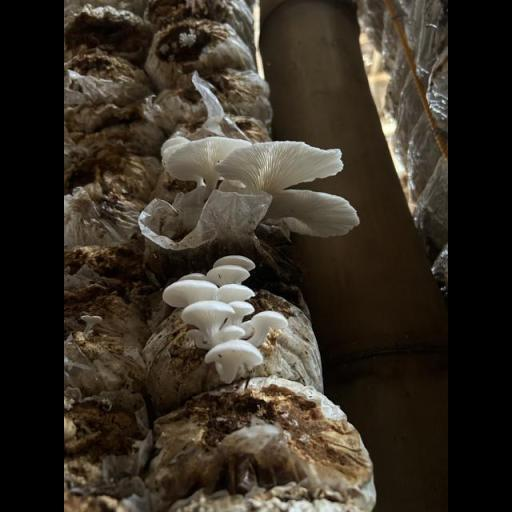White Oyster Mushroom: (156, 118, 366, 249), (150, 252, 308, 385)
